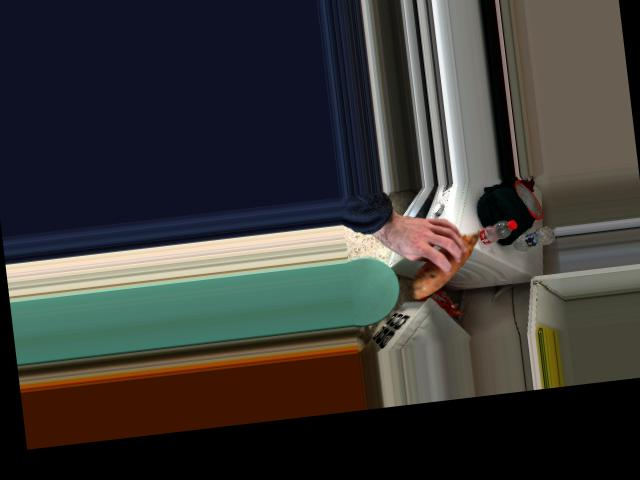sweet_potato: (413, 217, 481, 296)
